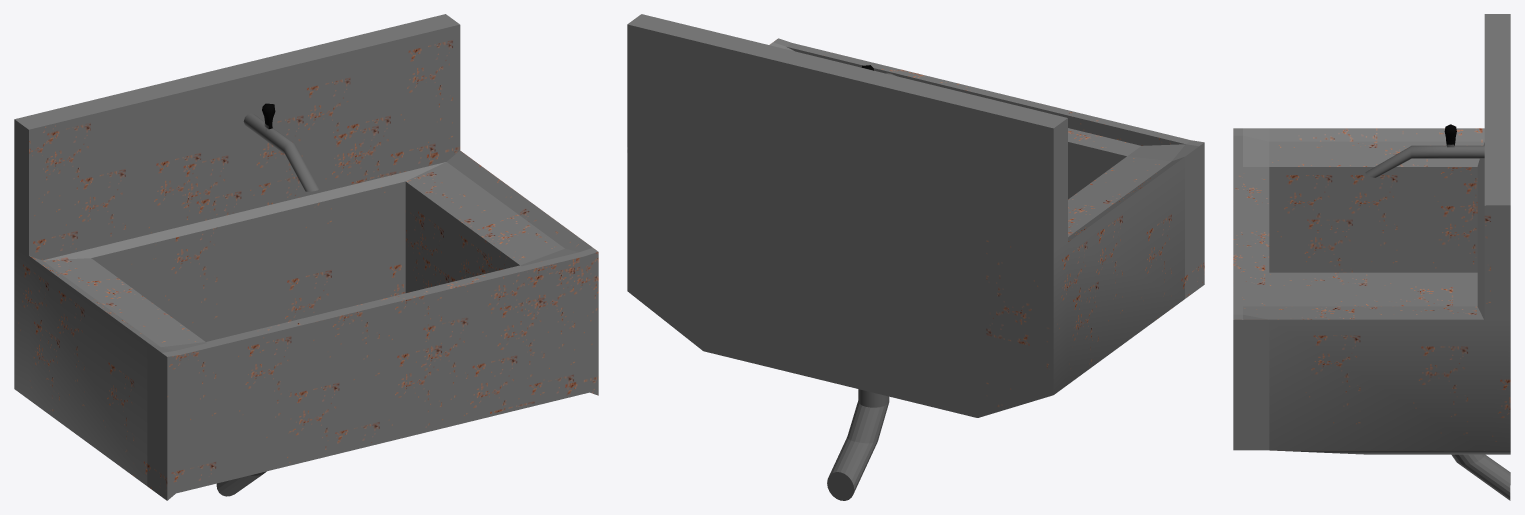
The model's file is PiaRE1.fbx.
The picture shows the model from 3 angles, left to right: view 1: azimuth 30°, elevation 25°; view 2: azimuth 150°, elevation 25°; view 3: azimuth 270°, elevation 25°; orthographic projection. The views are drawn at different scales.
Visible parts, largest first — view 1: Pia; view 2: Pia; view 3: Pia.
Boxes of the visible parts, x1,y1,x2,y2 form: Pia: [14, 14, 598, 500]; Pia: [627, 14, 1204, 500]; Pia: [1233, 14, 1510, 500].
Size of the model in its own units: 0.9025 by 0.8585 by 0.5537.
1 material, 1 textured.
